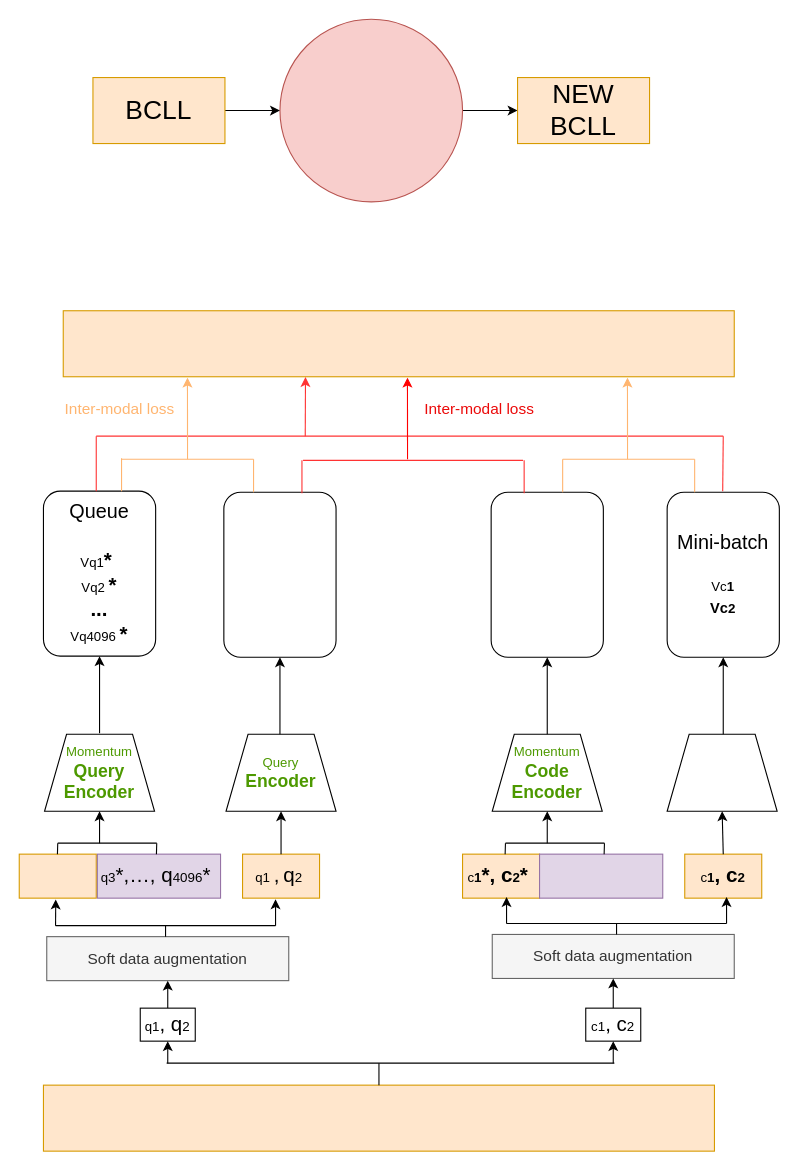
This 799x1170 diagram has some shape labels left out. Each missing label, with the centre of its shape:
(q 1 , c 1 ), (q 2 , c 2 ), … ,(q 1000 , c 1000 ), …: point (378, 1117)
Best Contrastive Learning Loss(BCLL): point (398, 343)
c 3 *, … ,c 4096 *: point (600, 875)
Code Encoder: point (721, 772)
Code Vc 1 * Vc2 * ... Vc4096 *: point (546, 574)
Mini-batch Vq 1 Vq 2: point (279, 574)
q 1 ,* q 2 *: point (57, 875)
Self-collection Model: point (371, 110)
